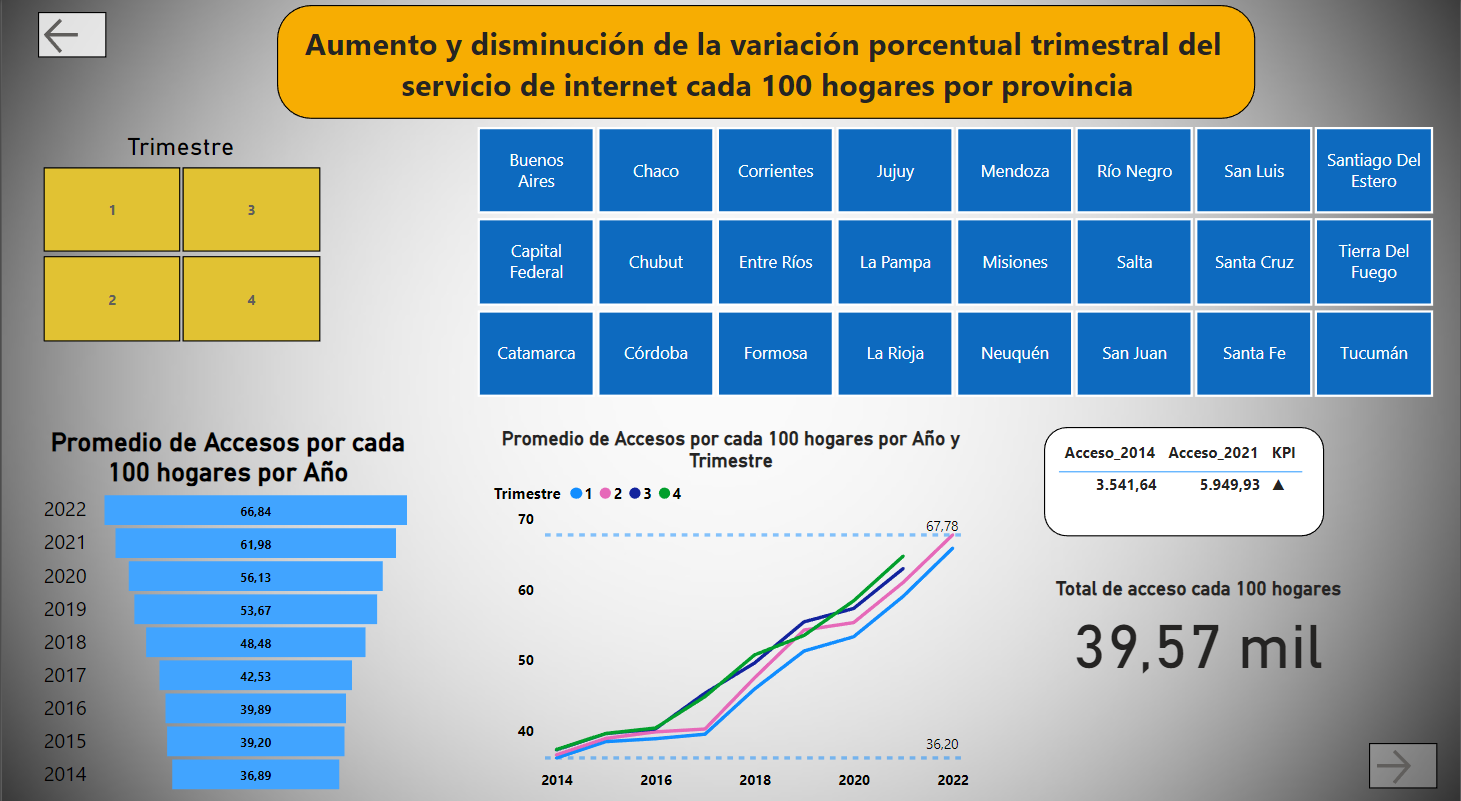

Layout of this report page (visuals, bound fields, positions):
{"tool":"powerbi","page":{"name":"Internet x Hogares","canvas":[1280,720],"ordinal":1},"visuals":[{"type":"funnel","fields":{"Y":["Avg(Internet_fijo_cada_100_hogares.Accesos por cada 100 hogares)"],"Category":["Internet_fijo_cada_100_hogares.Año.Variación.Jerarquía de fechas.Año"]},"box":[31.6,379.3,333.7,325.8],"z":0},{"type":"slicer","fields":{"Values":["Internet_fijo_cada_100_hogares.Provincia"]},"box":[391.9,109.1,888.5,250.9],"z":1000},{"type":"slicer","title":"Trimestre","fields":{"Values":["Internet_fijo_cada_100_hogares.Trimestre"]},"box":[10.9,120,292.7,190.9],"z":2000},{"type":"actionButton","box":[31.9,15.1,60.3,39.9],"z":3000},{"type":"actionButton","box":[1200.6,657,60.3,39.9],"z":4000},{"type":"lineChart","fields":{"Y":["Avg(Internet_fijo_cada_100_hogares.Accesos por cada 100 hogares)"],"Category":["Internet_fijo_cada_100_hogares.Año"],"Series":["Internet_fijo_cada_100_hogares.Trimestre"]},"box":[426.7,379.3,426.7,328.4],"z":5000},{"type":"textbox","box":[241.2,8.9,859.2,100.2],"z":6000},{"type":"card","title":"Total de acceso cada 100 hogares","fields":{"Values":["Sum(Internet_fijo_cada_100_hogares.Accesos por cada 100 hogares)"]},"box":[888.6,375.8,360.9,90.4],"z":7000},{"type":"tableEx","fields":{"Values":["Internet_fijo_cada_100_hogares.Acceso_2014","Internet_fijo_cada_100_hogares.Acceso_2021","Internet_fijo_cada_100_hogares.KPI"]},"box":[952.2,503.8,233.3,75.4],"z":8000}]}

Visuals, with their boxes in screenshot pixels (x1, y1, x2, y2), scaled from the page's 1280x720 canvas onto the 1461x801 screenshot:
funnel - Avg(Internet_fijo_cada_100_hogares.Accesos por cada 100 hogares) x Internet_fijo_cada_100_hogares.Año.Variación.Jerarquía de fechas.Año: x1=36 y1=422 x2=417 y2=784
slicer - Internet_fijo_cada_100_hogares.Provincia: x1=447 y1=121 x2=1460 y2=400
"Trimestre" slicer: x1=12 y1=134 x2=347 y2=346
actionButton: x1=36 y1=17 x2=105 y2=61
actionButton: x1=1370 y1=731 x2=1439 y2=775
lineChart - Avg(Internet_fijo_cada_100_hogares.Accesos por cada 100 hogares) x Internet_fijo_cada_100_hogares.Año: x1=487 y1=422 x2=974 y2=787
textbox: x1=275 y1=10 x2=1256 y2=121
"Total de acceso cada 100 hogares" card: x1=1014 y1=418 x2=1426 y2=519
tableEx - Internet_fijo_cada_100_hogares.Acceso_2014 x Internet_fijo_cada_100_hogares.Acceso_2021: x1=1087 y1=560 x2=1353 y2=644
